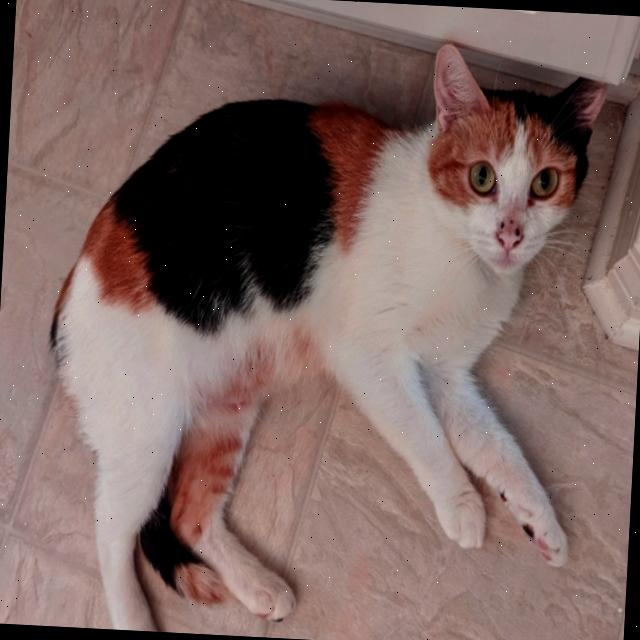calico_cat: (409, 25, 619, 293)
